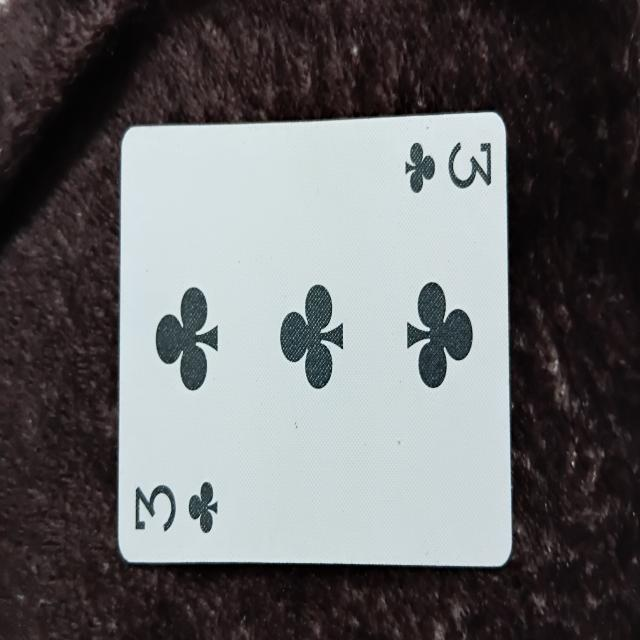3C: (121, 112, 513, 574)
